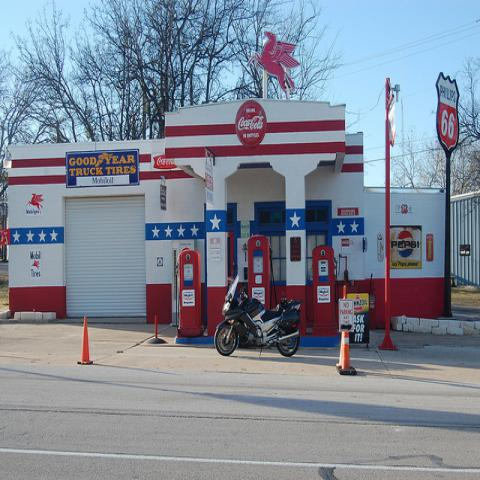motorcycle: (215, 274, 304, 359)
